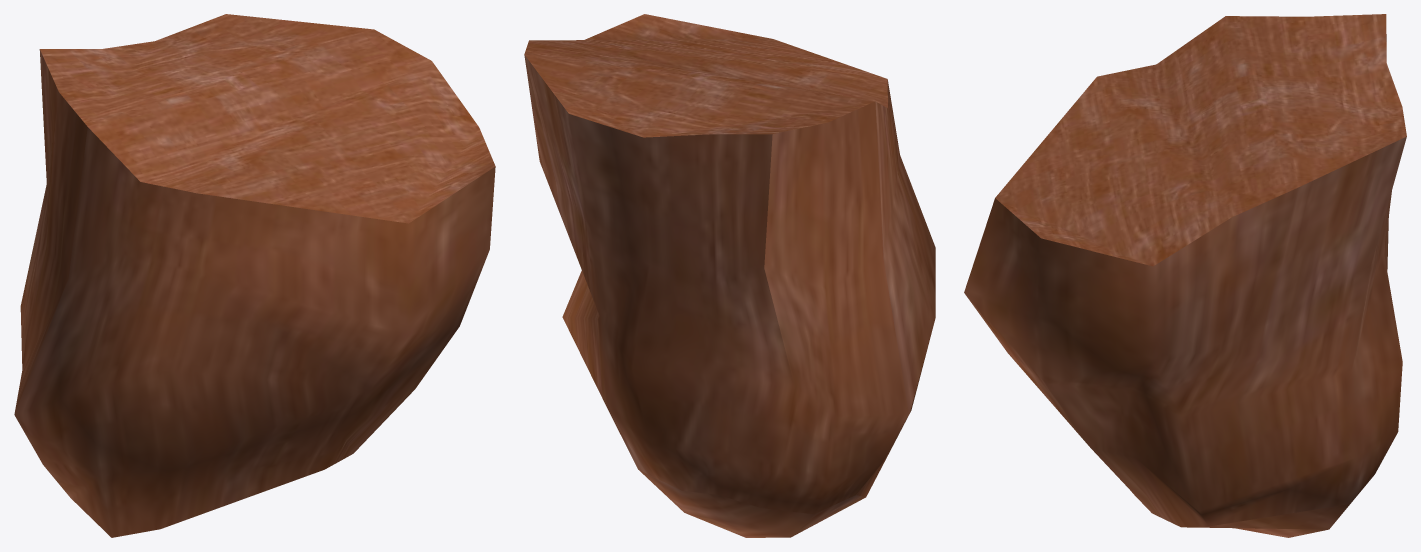
File: Canyon_Rock_Platforms_6.glb
3 views of the same model, side by side, from view 1: azimuth 30°, elevation 25°; view 2: azimuth 150°, elevation 25°; view 3: azimuth 270°, elevation 25° (orthographic). The views are drawn at different scales.
Visible parts, largest first — view 1: Canyon_Rock_Platforms_6_0; view 2: Canyon_Rock_Platforms_6_0; view 3: Canyon_Rock_Platforms_6_0.
Boxes of the visible parts, <box> form: Canyon_Rock_Platforms_6_0: <box>14,14,495,537</box>; Canyon_Rock_Platforms_6_0: <box>524,14,935,537</box>; Canyon_Rock_Platforms_6_0: <box>964,14,1406,537</box>.
Bounding box in the file's own units: 5.35 × 5.6 × 4.62.
Materials: 1 (1 with a texture image).
